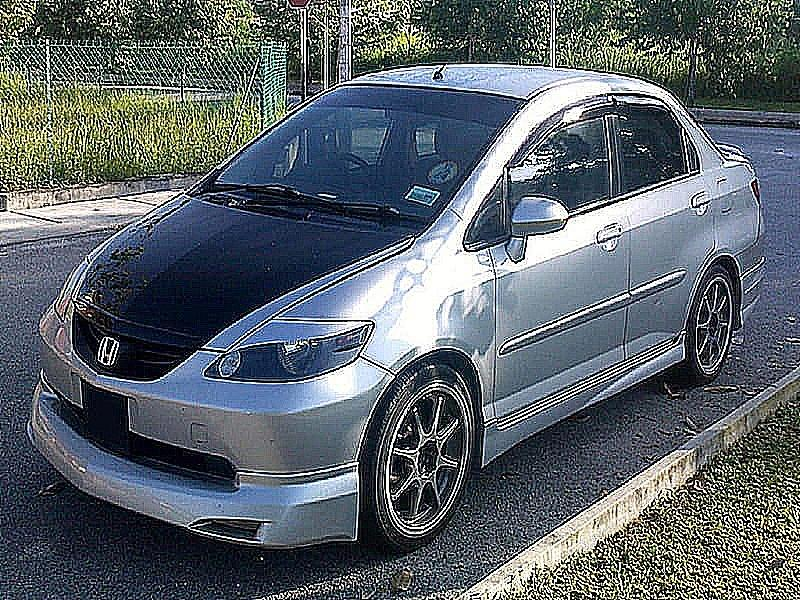Car hood: (62, 178, 415, 357)
Fender - -F-L-: (355, 206, 499, 470)
Fender - -R-L-: (685, 156, 765, 336)
Front bumper: (25, 350, 394, 556)
Headlight - -L-: (197, 313, 378, 388)
Headlight - -R-: (43, 251, 100, 326)
Passenger-s door - -F-L-: (495, 79, 629, 421)
Passenger-s door - -R-L-: (629, 83, 721, 365)
Rear bumper: (727, 243, 774, 333)
Rear light - -L-: (748, 177, 771, 216)
Side bumper - -L-: (470, 321, 691, 476)
Side mirror - -L-: (505, 191, 570, 268)
